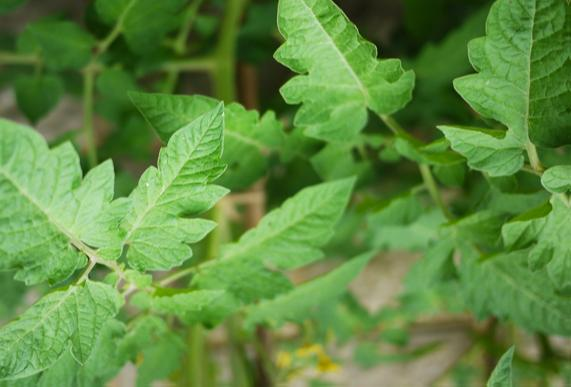Tomato leaf: (422, 0, 571, 203), (97, 93, 249, 280), (267, 0, 414, 160), (191, 173, 365, 306), (0, 100, 113, 294), (0, 268, 122, 387), (457, 237, 571, 350), (243, 240, 382, 325)
